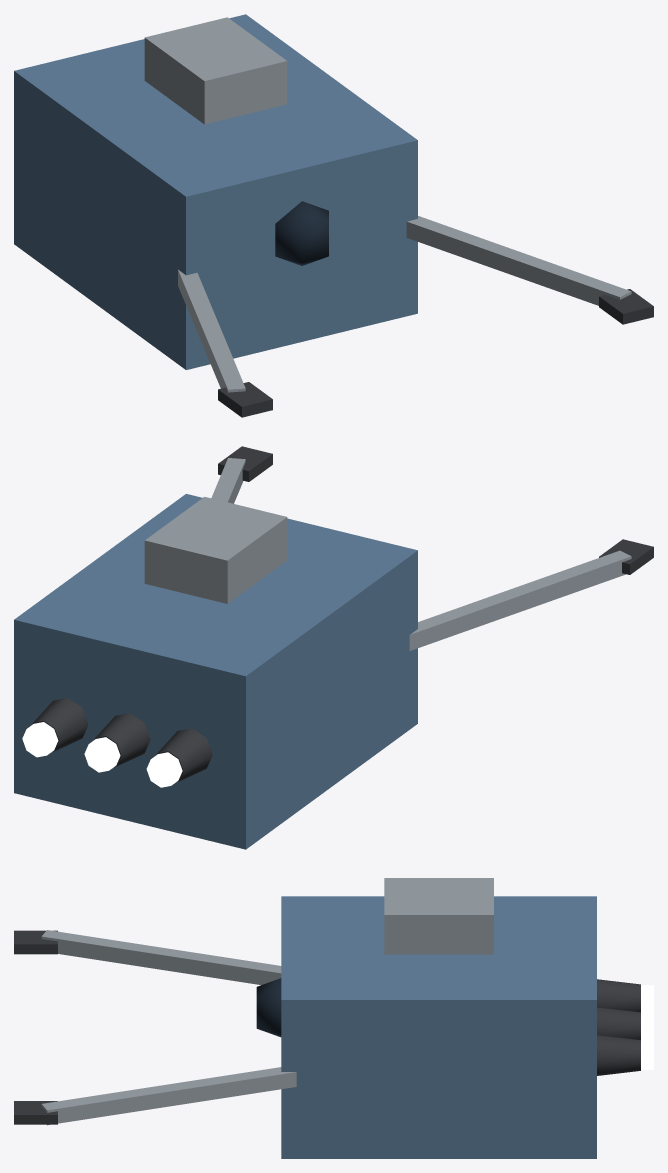
File: space_ship_builder_drone_mk6.glb
3 views of the same model, one above another, from view 1: azimuth 30°, elevation 25°; view 2: azimuth 150°, elevation 25°; view 3: azimuth 270°, elevation 25° (orthographic). The views are drawn at different scales.
Parts seen in each view (by area): view 1: body, arm_1, arm_0; view 2: body, arm_0, engine_2, engine_1, engine_0, arm_1; view 3: body, arm_1, arm_0, engine_2, engine_0, engine_1.
Part boxes in pixels (x1,y1,x2,y2): body: [14, 14, 417, 369]; arm_1: [406, 216, 653, 324]; arm_0: [178, 269, 272, 417]; body: [14, 494, 417, 849]; arm_0: [409, 539, 653, 650]; engine_2: [22, 698, 88, 757]; engine_1: [84, 713, 150, 772]; engine_0: [146, 728, 212, 787]; arm_1: [211, 446, 272, 503]; body: [256, 878, 596, 1158]; arm_1: [14, 1067, 296, 1125]; arm_0: [14, 930, 281, 984]; engine_2: [597, 1035, 653, 1075]; engine_0: [597, 979, 653, 1013]; engine_1: [597, 1007, 653, 1040].
Size of what is drawn, in the model's own units: 3.98 by 2.12 by 5.84.
